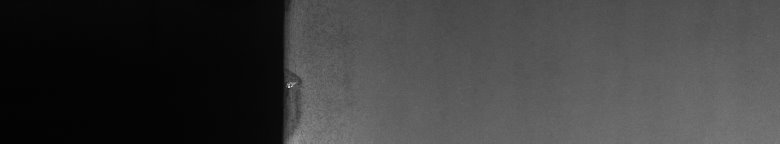hb: (292, 60, 310, 136)
